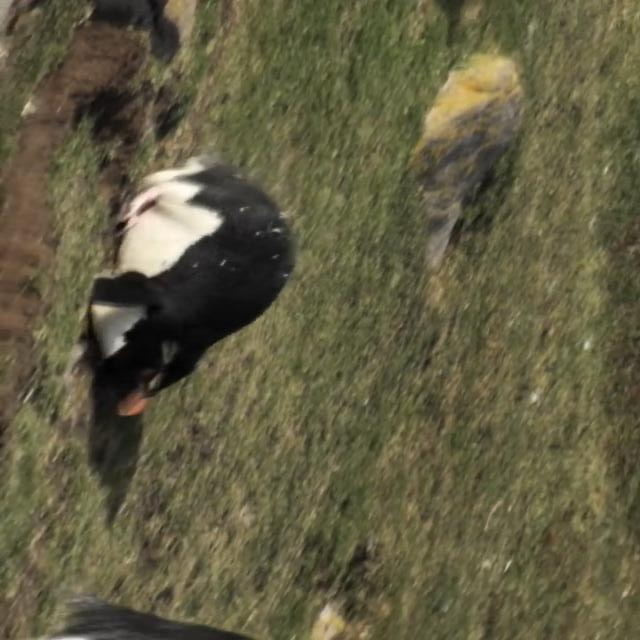penguin: (86, 154, 297, 418)
